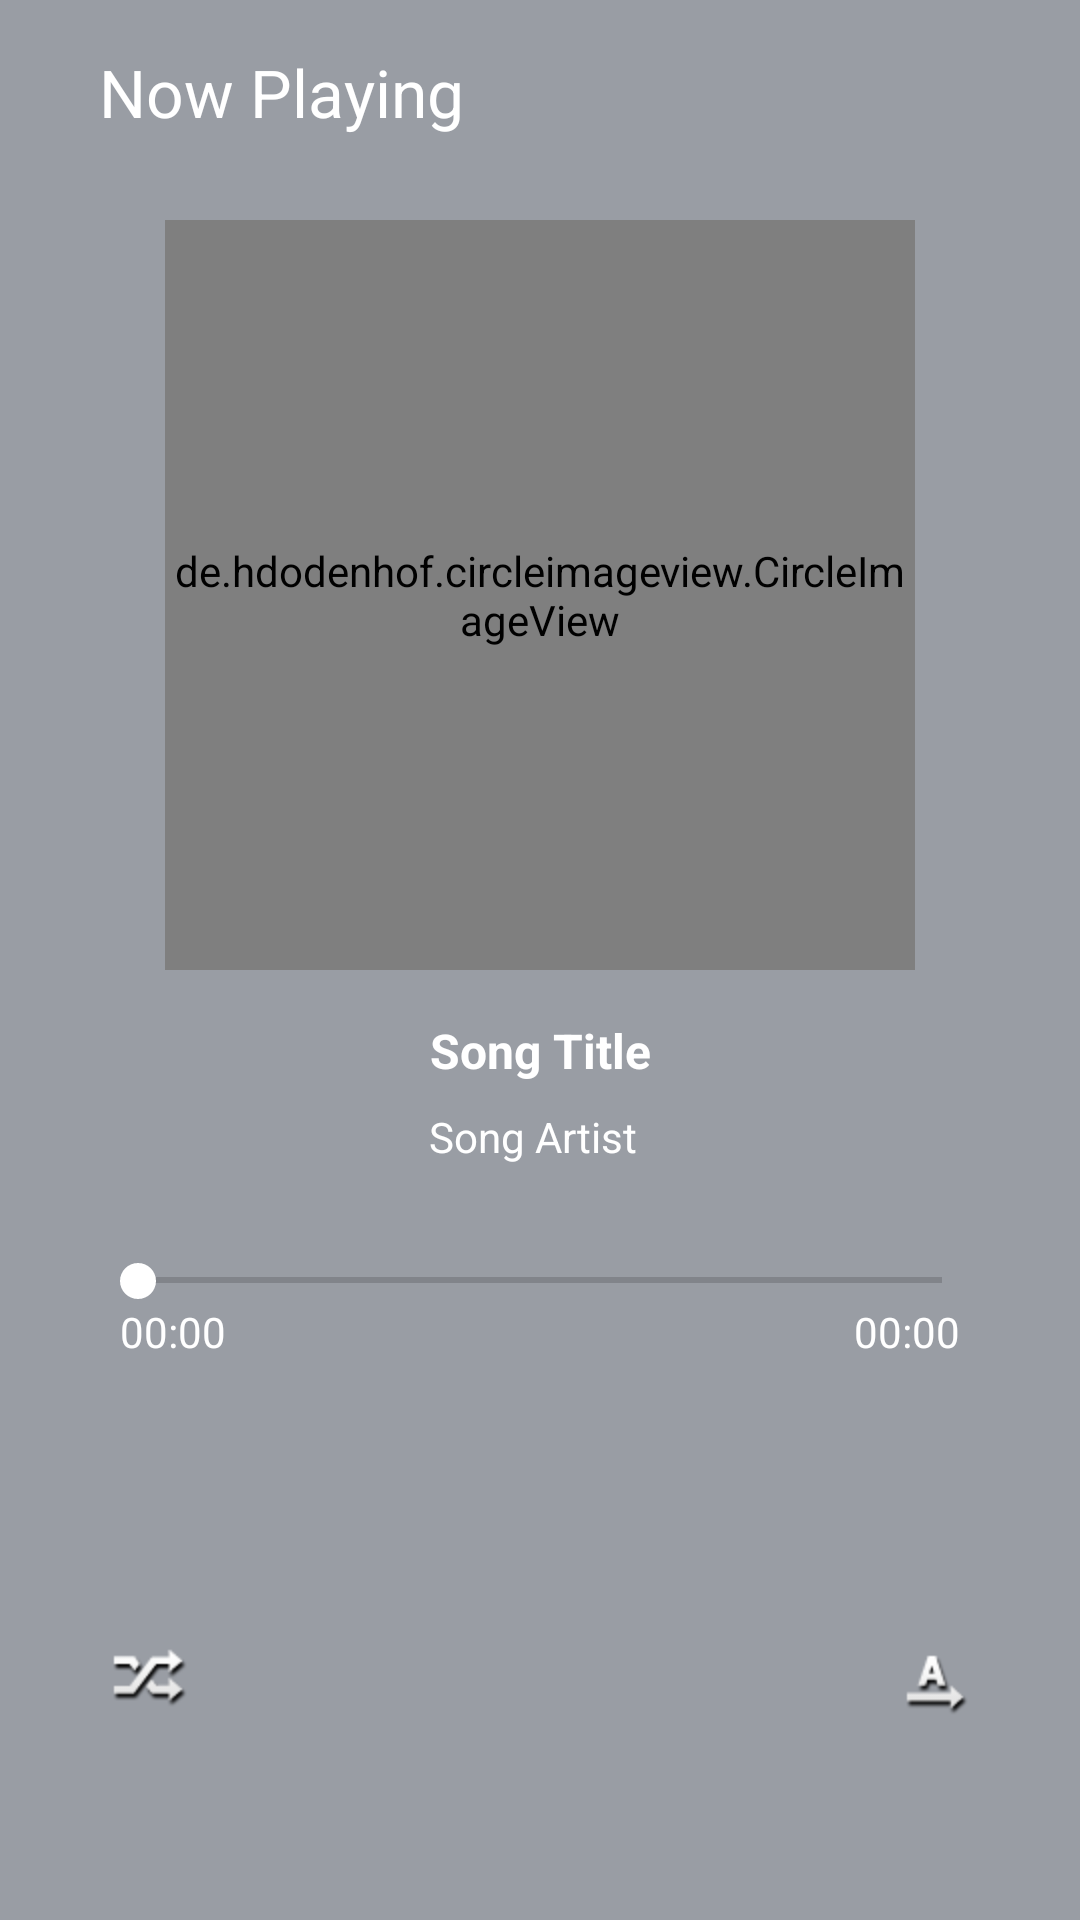

Screen size 1080 × 1920. Icon name, then its box in pixels as (x1, y1, x2, y2):
music play menu shuffle: (113, 1650, 185, 1705)
